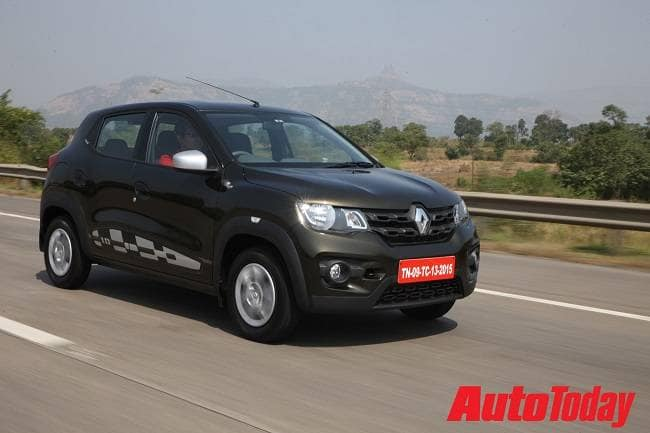Car: (36, 95, 493, 349)
